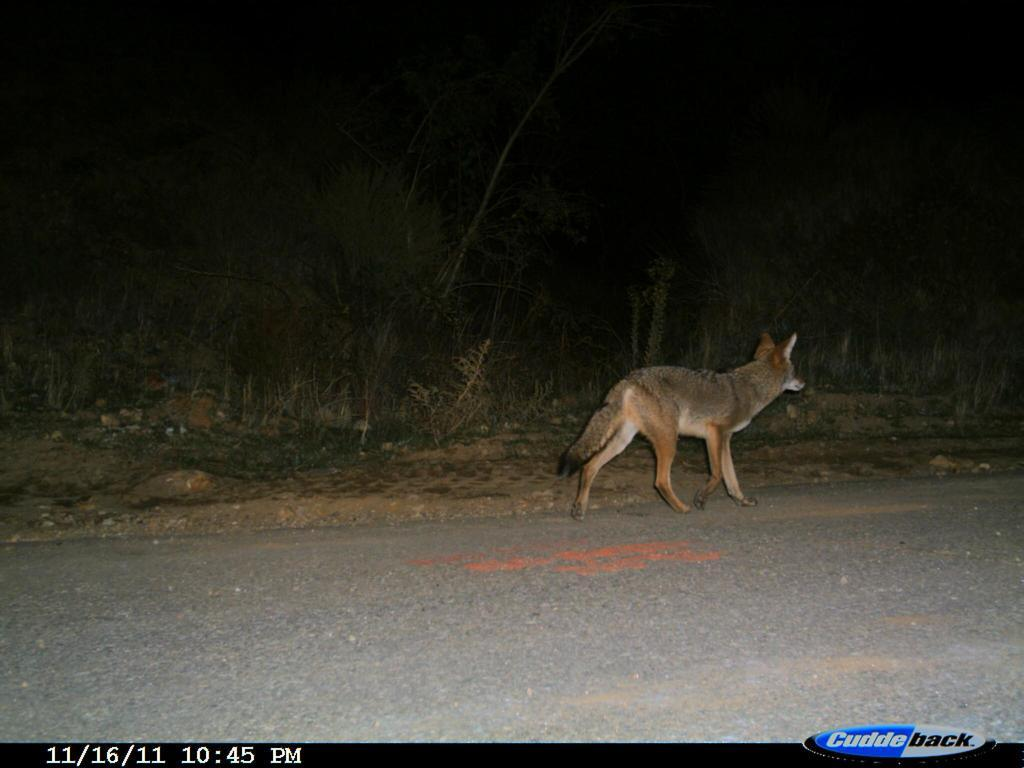coyote: (550, 324, 818, 530)
